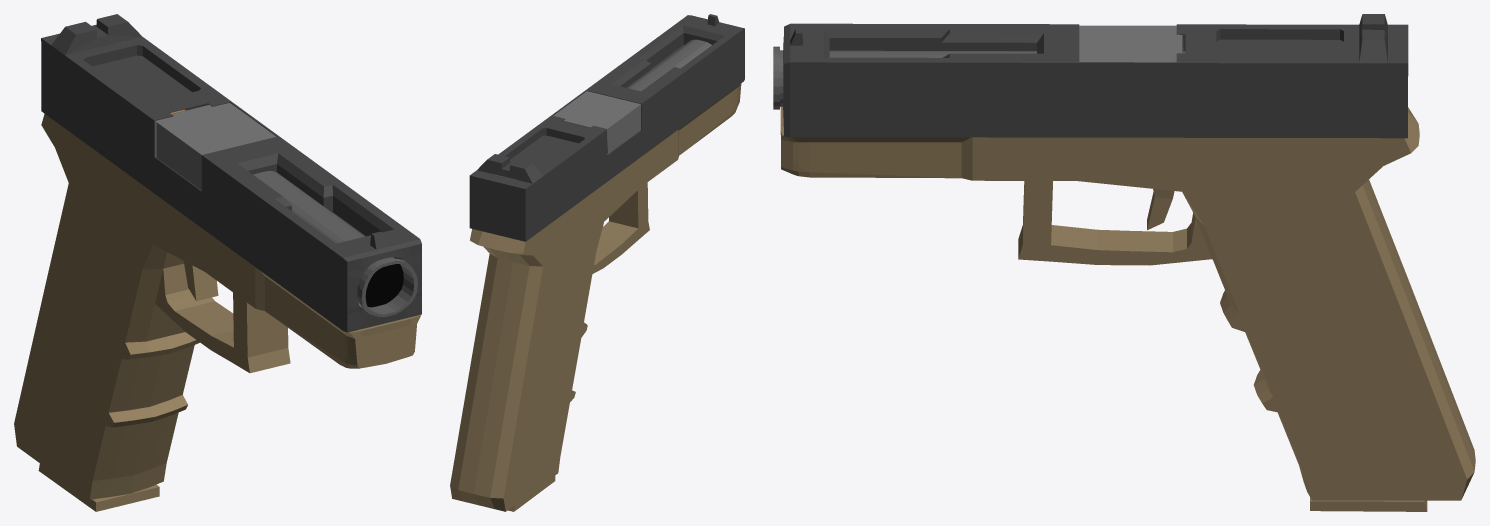
Rendered from wep_glock.fbx.
3 views of the same model, side by side, from view 1: azimuth 30°, elevation 25°; view 2: azimuth 150°, elevation 25°; view 3: azimuth 270°, elevation 25° (orthographic). The views are drawn at different scales.
Parts seen in each view (by area): view 1: body, slide; view 2: body, slide; view 3: body, slide.
Part boxes in pixels (x1=…): body: x1=14, y1=103, x2=420, y2=511; slide: x1=41, y1=14, x2=421, y2=332; body: x1=450, y1=39, x2=741, y2=511; slide: x1=469, y1=14, x2=744, y2=241; body: x1=773, y1=25, x2=1475, y2=511; slide: x1=783, y1=14, x2=1408, y2=138.
Bounding box in the file's own units: 48.92 × 276 × 375.
